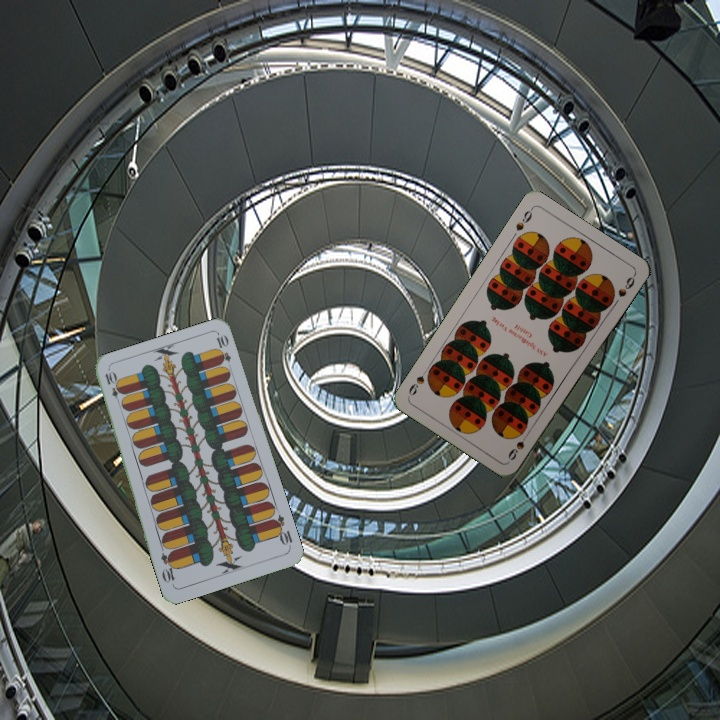E10: (268, 511, 295, 550), (101, 367, 124, 407)
S9: (511, 204, 535, 233), (504, 435, 528, 463)
